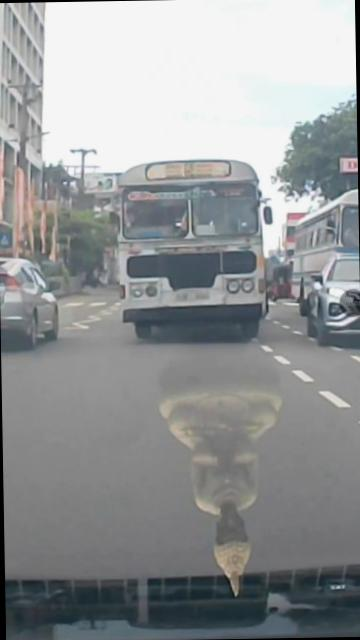illegal overtaking: (94, 150, 294, 370)
